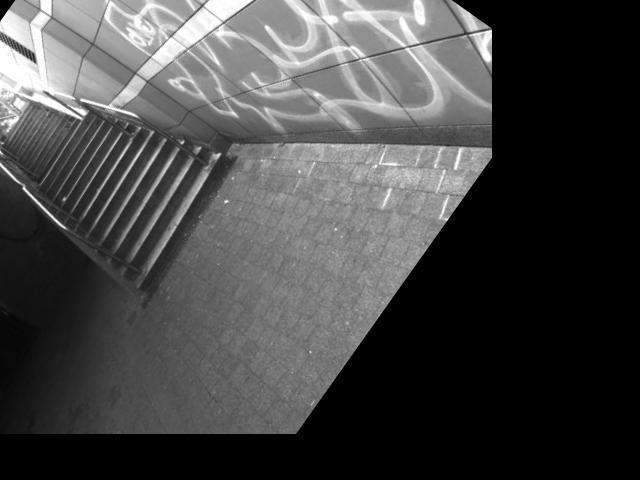Escaleras: (15, 72, 236, 295), (0, 84, 83, 182)
